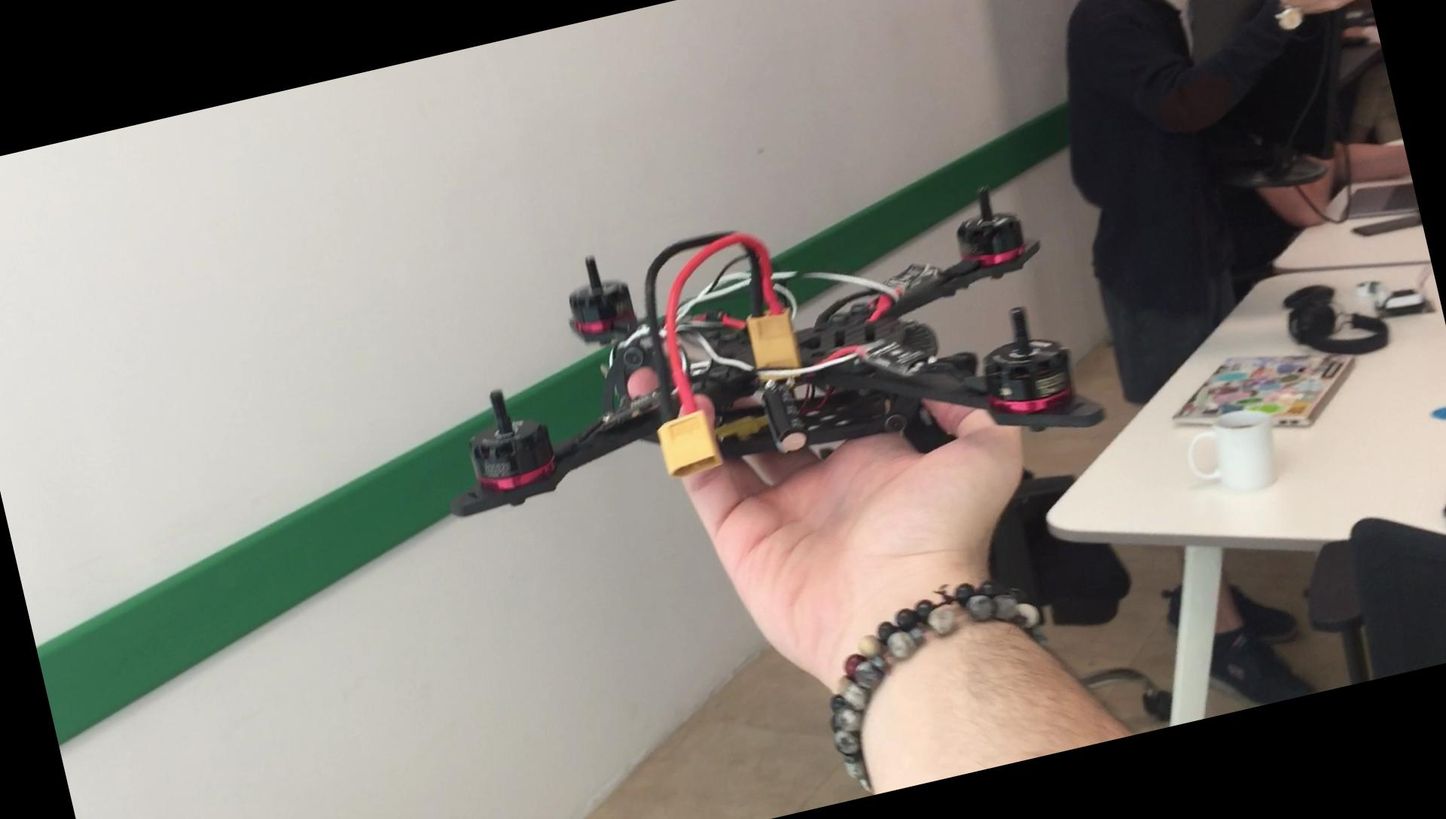drone: (382, 141, 1122, 572)
